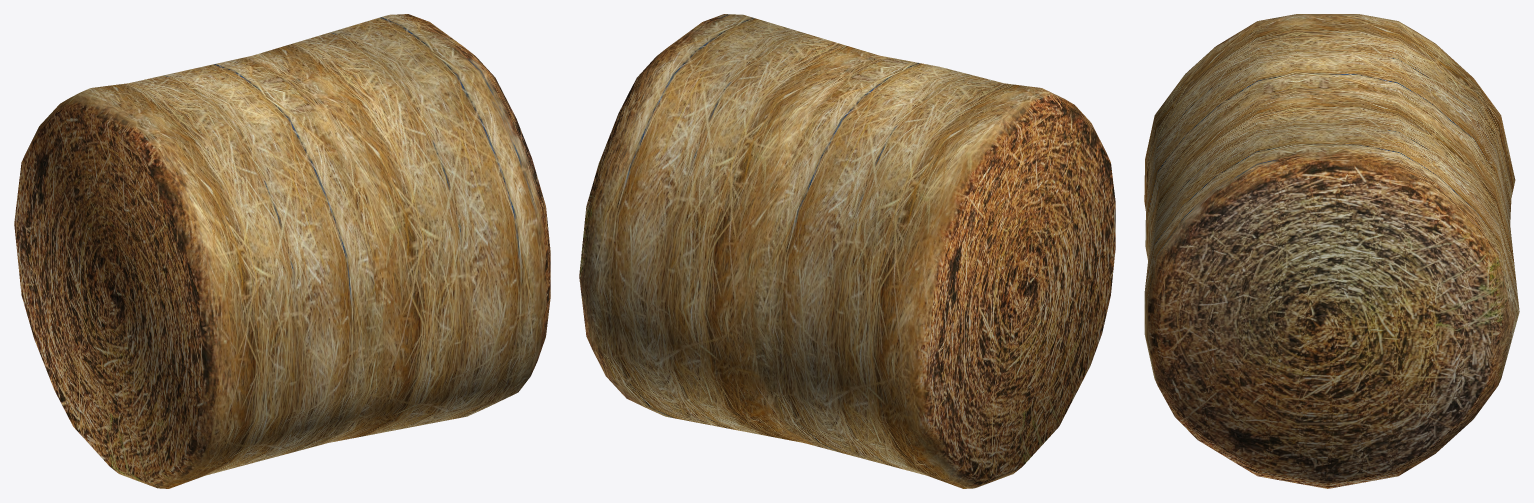
The model's file is haybale.obj.
The picture shows the model from 3 angles, left to right: view 1: azimuth 30°, elevation 25°; view 2: azimuth 150°, elevation 25°; view 3: azimuth 270°, elevation 25°; orthographic projection. The views are drawn at different scales.
Visible parts, largest first — view 1: haybale; view 2: haybale; view 3: haybale.
Boxes of the visible parts, x1,y1,x2,y2 form: haybale: (14,14,550,488); haybale: (579,14,1115,488); haybale: (1144,14,1519,488).
Bounding box in the file's own units: 2.2 × 2.2 × 2.24.
